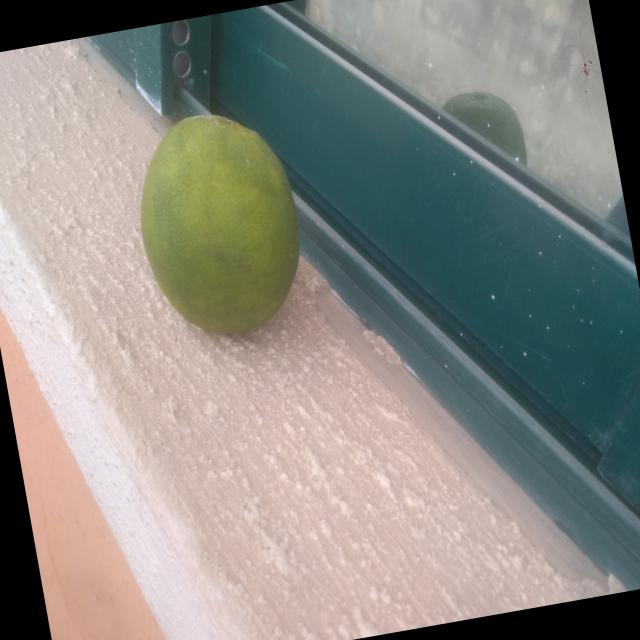Unripe: (80, 61, 353, 388)
